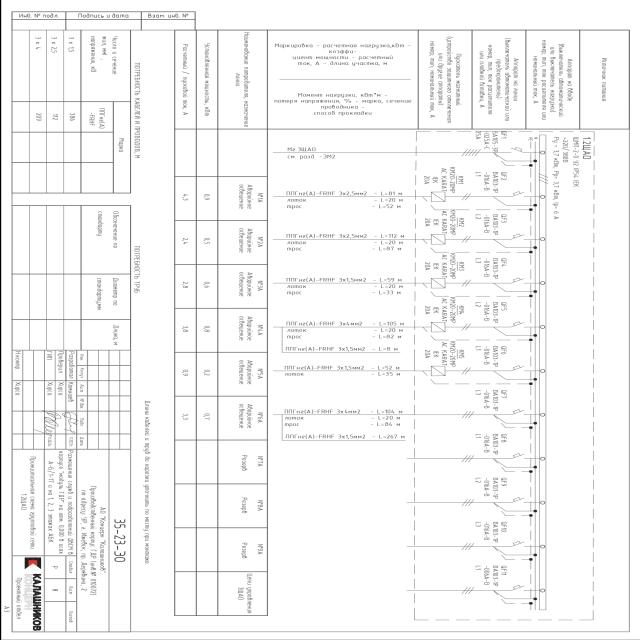-: (421, 208, 455, 236), (421, 252, 455, 280), (422, 166, 456, 193), (422, 341, 456, 368), (422, 296, 456, 322), (472, 301, 498, 325), (472, 432, 498, 456), (474, 476, 499, 500), (472, 213, 498, 236), (474, 388, 498, 412), (474, 520, 498, 544), (474, 345, 498, 369), (474, 564, 498, 588), (472, 258, 498, 280), (473, 130, 499, 152), (472, 172, 498, 194), (570, 136, 580, 188)
KM: (430, 233, 446, 246), (429, 278, 445, 290), (429, 322, 445, 334), (429, 365, 445, 377), (429, 191, 445, 203)
QF: (506, 146, 526, 154), (510, 452, 528, 460), (508, 585, 526, 593), (509, 540, 527, 548), (510, 496, 528, 504), (509, 191, 527, 199), (508, 408, 526, 416), (508, 366, 526, 374), (508, 321, 526, 329), (508, 276, 526, 284), (510, 233, 528, 241)
